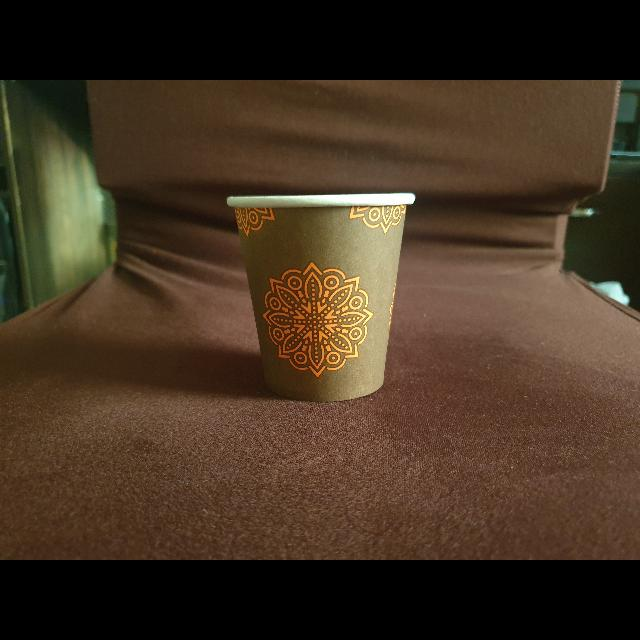trash: (223, 185, 422, 408)
